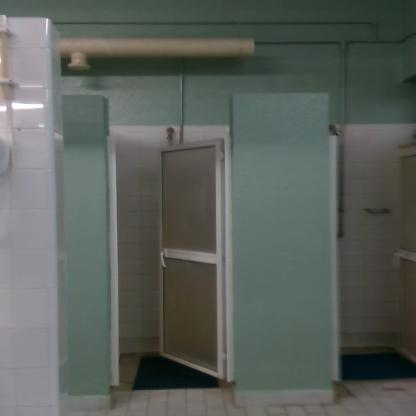open: (322, 112, 416, 370)
semi: (84, 93, 260, 396)
